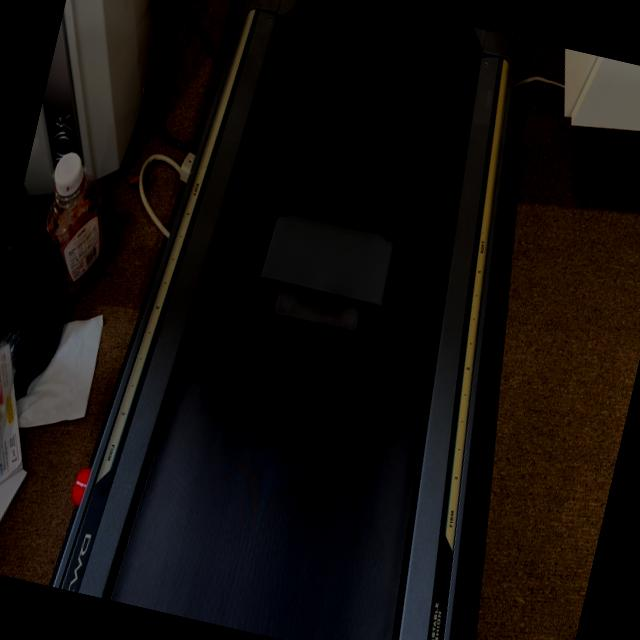Trash: (253, 202, 399, 337)
